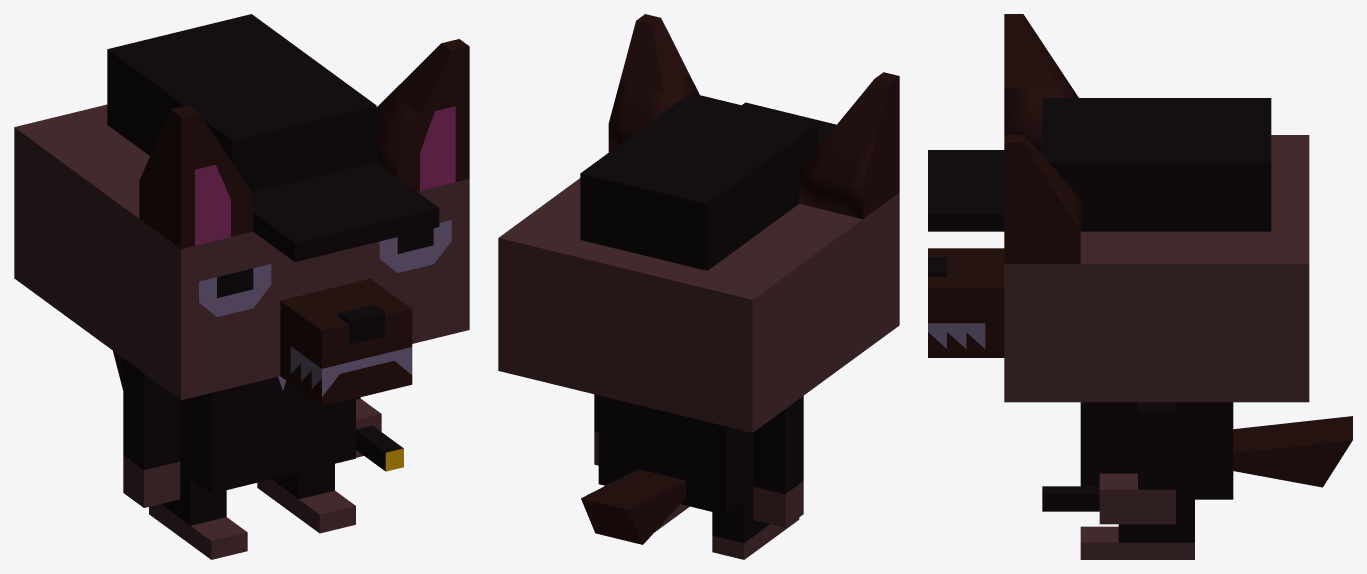
Rendered from guardDog_idle.glb.
The picture shows the model from 3 angles, left to right: view 1: azimuth 30°, elevation 25°; view 2: azimuth 150°, elevation 25°; view 3: azimuth 270°, elevation 25°; orthographic projection. The views are drawn at different scales.
Visible parts, largest first — view 1: guardDogIdle_head_MSH, guardDogIdle_body_MSH, guardDogIdle_R_arm_MSH, guardDogIdle_R_leg_MSH, guardDogIdle_L_leg_MSH, guardDogIdle_L_arm_MSH; view 2: guardDogIdle_head_MSH, guardDogIdle_body_MSH, guardDogIdle_R_arm_MSH, guardDogIdle_tail_MSH, guardDogIdle_R_leg_MSH; view 3: guardDogIdle_head_MSH, guardDogIdle_body_MSH, guardDogIdle_L_arm_MSH, guardDogIdle_tail_MSH, guardDogIdle_L_leg_MSH.
Part boxes in pixels (x1,y1,x2,y2): guardDogIdle_head_MSH: [14, 14, 469, 406]; guardDogIdle_body_MSH: [180, 376, 355, 493]; guardDogIdle_R_arm_MSH: [123, 358, 180, 507]; guardDogIdle_R_leg_MSH: [149, 471, 247, 559]; guardDogIdle_L_leg_MSH: [257, 464, 355, 533]; guardDogIdle_L_arm_MSH: [356, 397, 403, 471]; guardDogIdle_head_MSH: [498, 14, 899, 432]; guardDogIdle_body_MSH: [598, 395, 753, 515]; guardDogIdle_R_arm_MSH: [753, 396, 803, 527]; guardDogIdle_tail_MSH: [581, 469, 685, 544]; guardDogIdle_R_leg_MSH: [712, 495, 799, 559]; guardDogIdle_head_MSH: [928, 14, 1309, 402]; guardDogIdle_body_MSH: [1080, 402, 1233, 499]; guardDogIdle_L_arm_MSH: [1042, 402, 1175, 524]; guardDogIdle_tail_MSH: [1233, 416, 1352, 487]; guardDogIdle_L_leg_MSH: [1080, 499, 1194, 559].
Size of the model in its own units: 0.667 by 1.08 by 0.9287.
